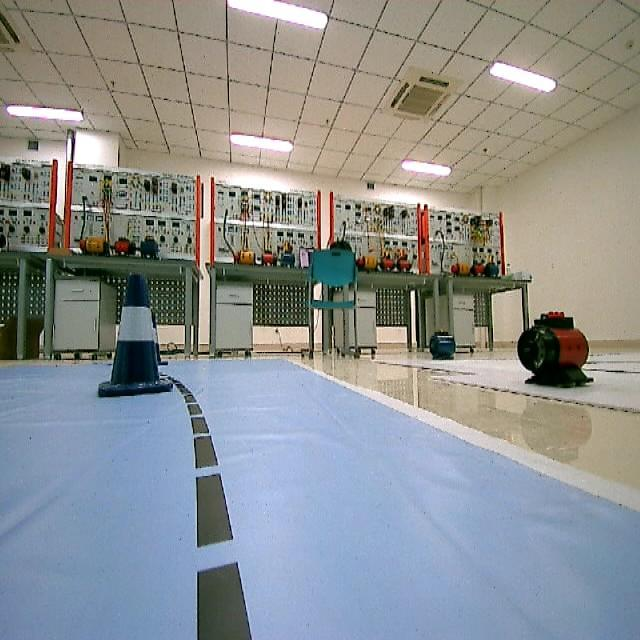obstacle: (89, 266, 181, 401)
